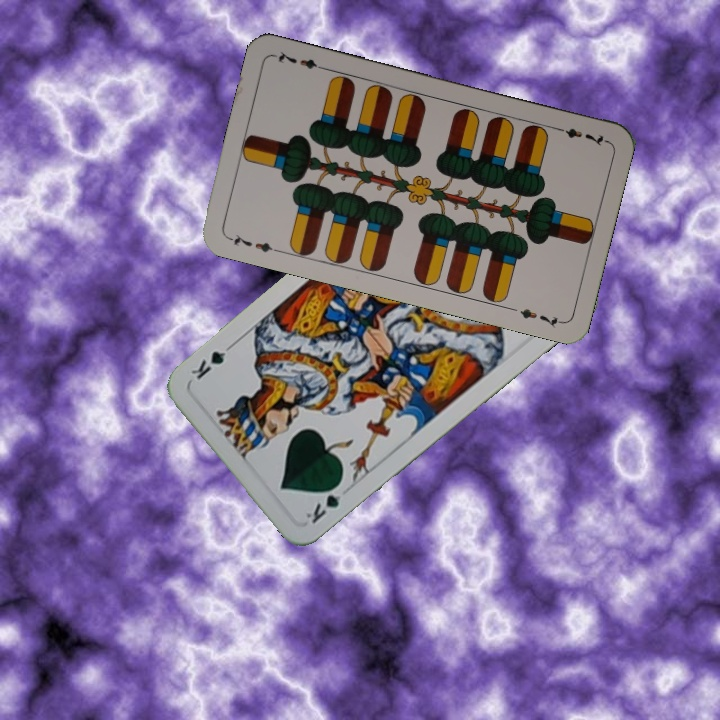E7: (551, 122, 609, 149), (224, 231, 282, 256)
GK: (301, 477, 352, 527)
